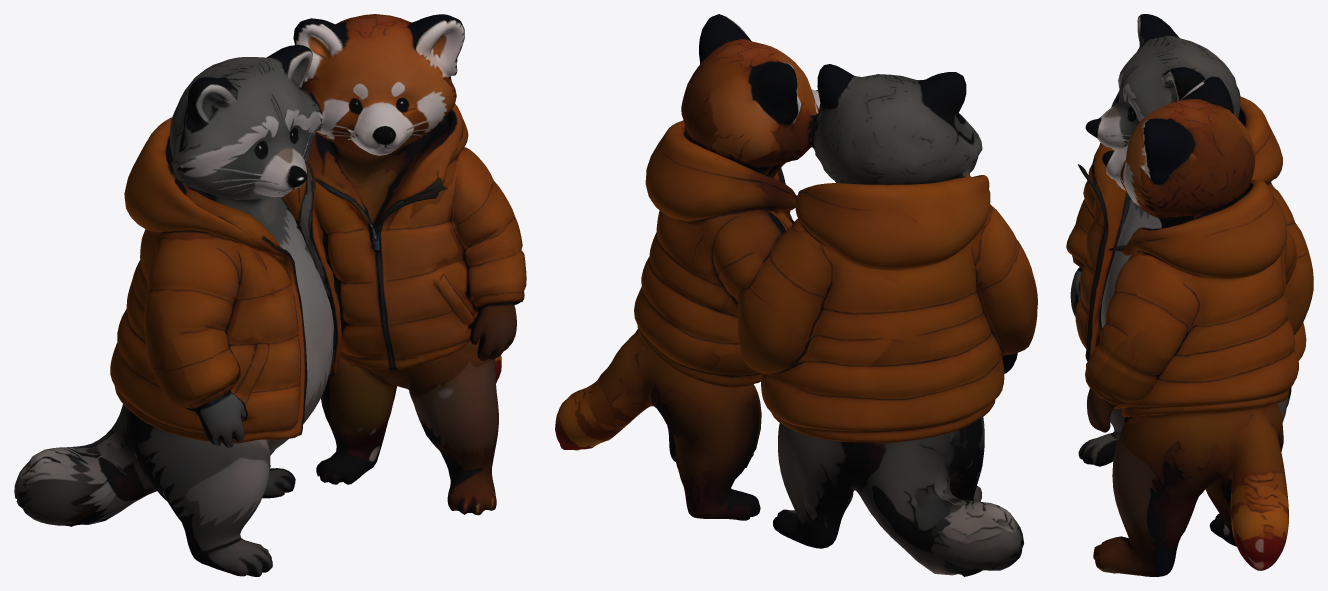
File: base_basic_pbr.glb
The picture shows the model from 3 angles, left to right: view 1: azimuth 30°, elevation 25°; view 2: azimuth 150°, elevation 25°; view 3: azimuth 270°, elevation 25°; orthographic projection. The views are drawn at different scales.
Parts seen in each view (by area): view 1: model; view 2: model; view 3: model.
Part boxes in pixels (box(x1,y1,x2,y2)): model: box(14, 14, 526, 576); model: box(555, 14, 1037, 576); model: box(1066, 14, 1313, 576).
Size of the model in its own units: 1.88 by 1.78 by 0.9095.
Materials: 1 (1 with a texture image).
